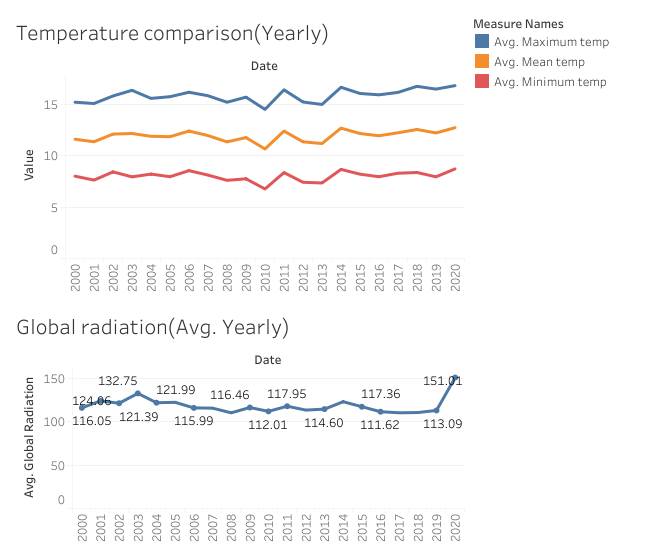

What the dashboard file says about the page in this screenshot:
{"tool":"tableau","page":{"name":"Dashboard 1","canvas":[650,860],"ordinal":0},"visuals":[{"type":"worksheet","title":"Temperature comparison(Yearly)","mark":"Line","cols":["Date"],"box":[8,11.4,459.9,418.6]},{"type":"legend","title":"Temperature comparison(Yearly)","param":"[federated.1up7qnk0jwi9f510lc87j0bg83fi].[:Measure Names]","box":[467.9,11.4,174,122.5]},{"type":"worksheet","title":"Global radiation(Avg. Yearly)","mark":"Automatic","rows":["global_radiation"],"cols":["Date"],"box":[8,430,459.9,418.6]}]}

Visuals, with their boxes on the page's 650x860 design canvas (x1, y1, x2, y2). These are canvas units, not pixel positions in the 649x559 screenshot, which may show the page scaled, cropped or inside an application window:
"Temperature comparison(Yearly)" worksheet (Line marks): 8/11/468/430
"Temperature comparison(Yearly)" legend: 468/11/642/134
"Global radiation(Avg. Yearly)" worksheet: 8/430/468/849
